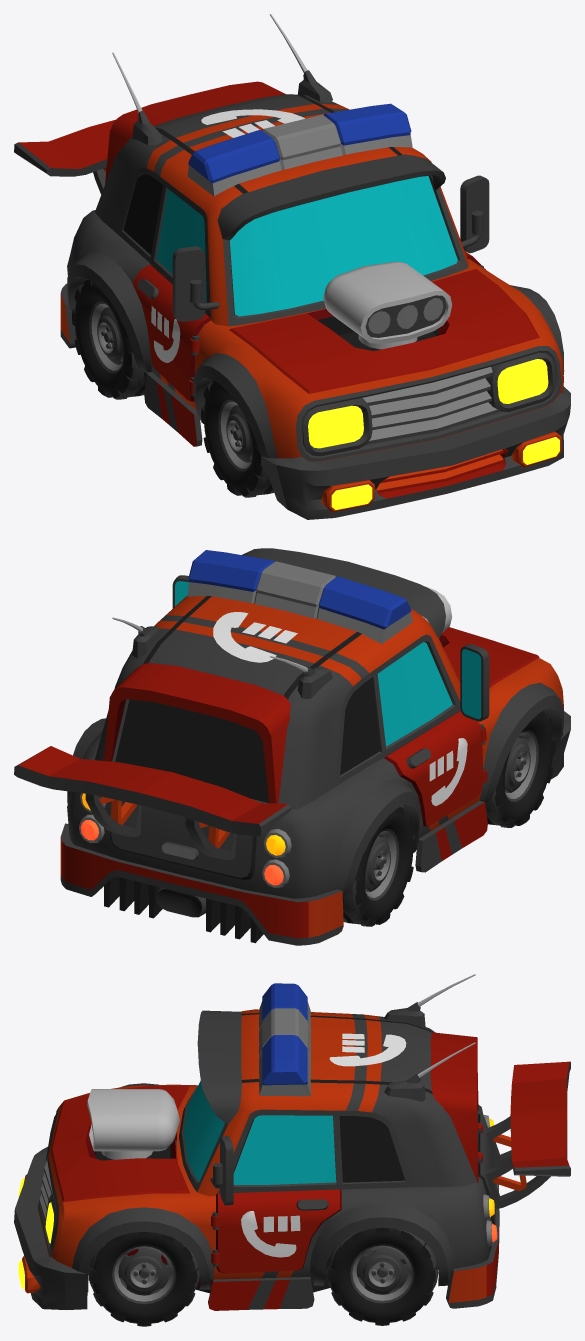
Rendered from SVehicle08.fbx.
3 views of the same model, one above another, from view 1: azimuth 30°, elevation 25°; view 2: azimuth 150°, elevation 25°; view 3: azimuth 270°, elevation 25° (orthographic). The views are drawn at different scales.
Visible parts, largest first — view 1: SVehicle08, SV8_Wheel_BR, SV8_Wheel_FR, SV8_Parts; view 2: SVehicle08, SV8_Wheel_BR, SV8_Wheel_FR, SV8_Parts; view 3: SVehicle08, SV8_Wheel_BL, SV8_Wheel_FL, SV8_Parts.
Part boxes in pixels (x1,y1,x2,y2): SVehicle08: (14, 14, 570, 519); SV8_Wheel_BR: (72, 279, 146, 399); SV8_Wheel_FR: (201, 380, 273, 497); SV8_Parts: (201, 109, 304, 137); SVehicle08: (14, 548, 570, 945); SV8_Wheel_BR: (342, 806, 416, 926); SV8_Wheel_FR: (485, 710, 555, 827); SV8_Parts: (213, 612, 297, 662); SVehicle08: (14, 974, 570, 1310); SV8_Wheel_BL: (326, 1227, 438, 1325); SV8_Wheel_FL: (88, 1232, 199, 1326); SV8_Parts: (329, 1033, 406, 1066).
Size of the model in its own units: 248 by 215 by 420.
Materials: 1 (1 with a texture image).
